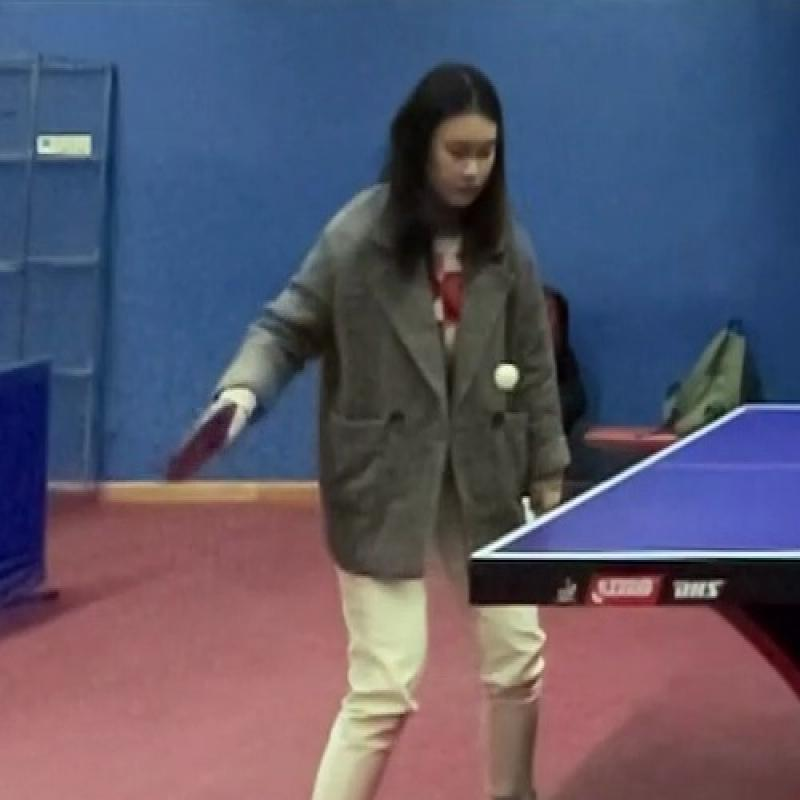bats: (158, 384, 252, 496)
